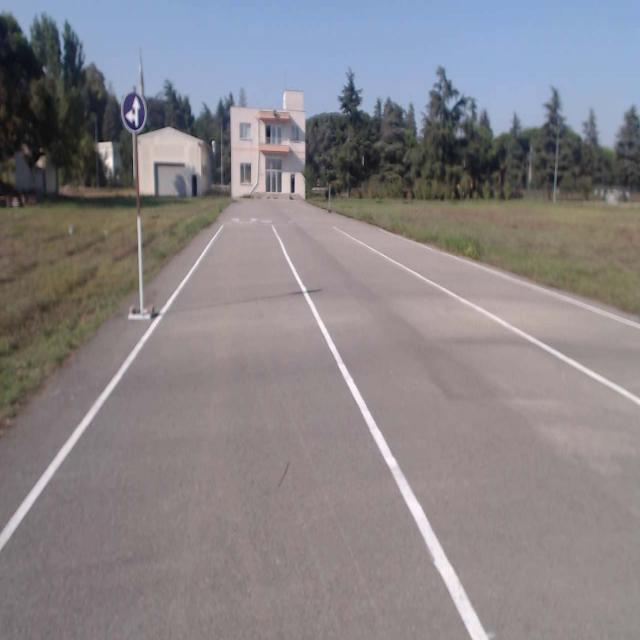ilerisol: (121, 91, 147, 133)
